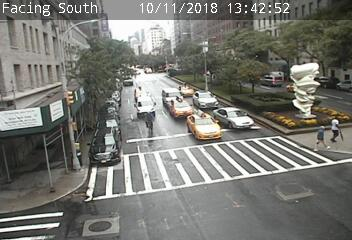car: (88, 128, 120, 164), (186, 113, 222, 140), (213, 107, 254, 129), (193, 90, 218, 110), (168, 99, 193, 119), (162, 88, 184, 109), (137, 97, 156, 116), (259, 75, 284, 87), (176, 85, 195, 97), (134, 88, 149, 100)
